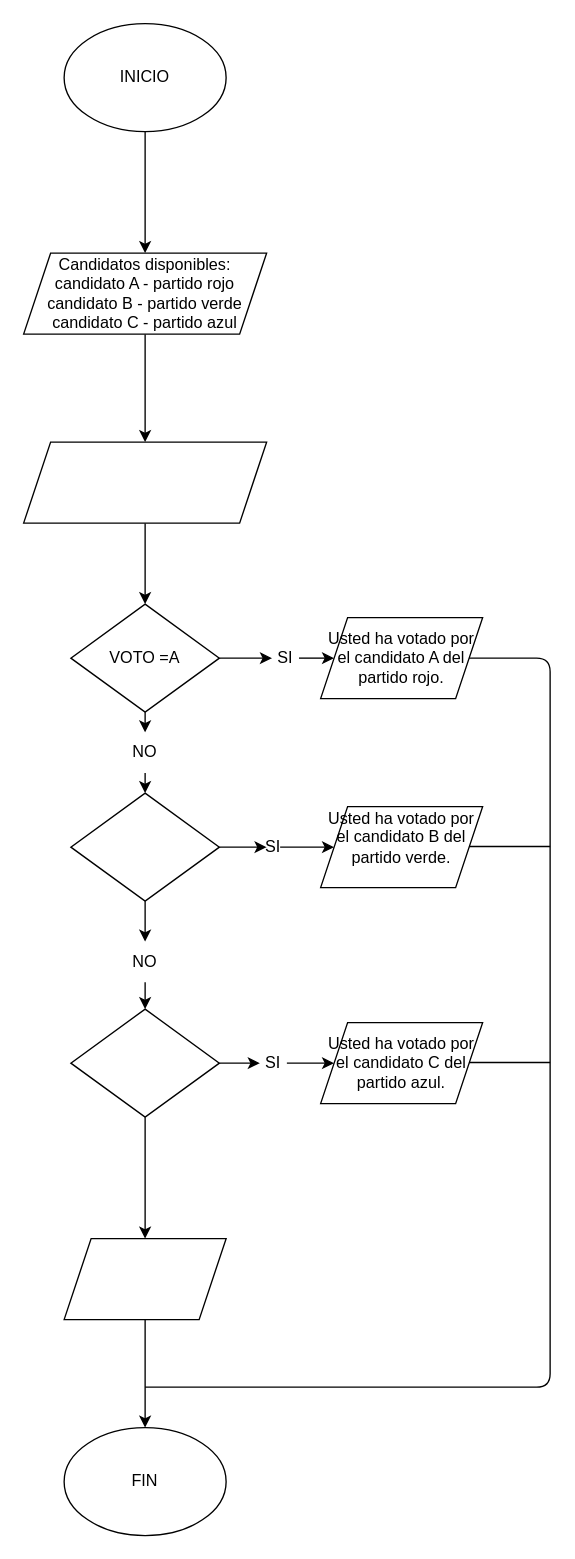
Some shapes in this 575 by 1559 pixel diagram are drawn without their labels. Each missing label, with the centre of its shape:
"Ingrese su voto ( A, B o C):" goes at point 144,482.
"Opcion erronea" goes at point 144,1278.
"VOTO=B" goes at point 144,846.
"VOTO=C" goes at point 144,1062.
